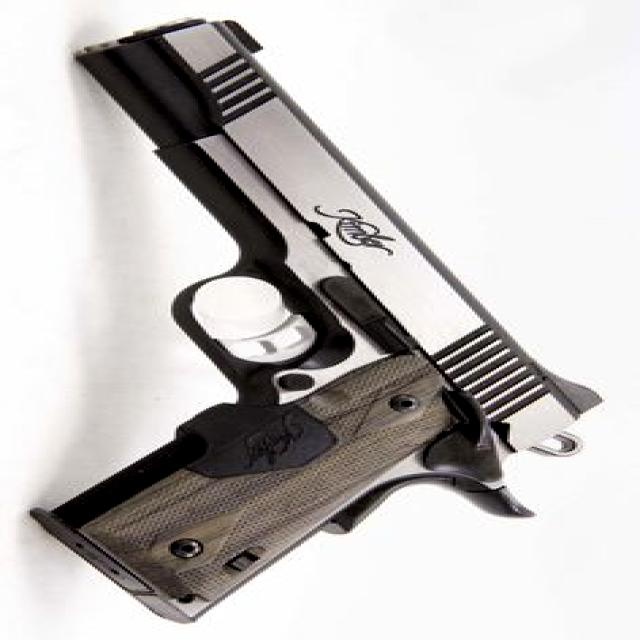semi automatic: (44, 4, 600, 628)
